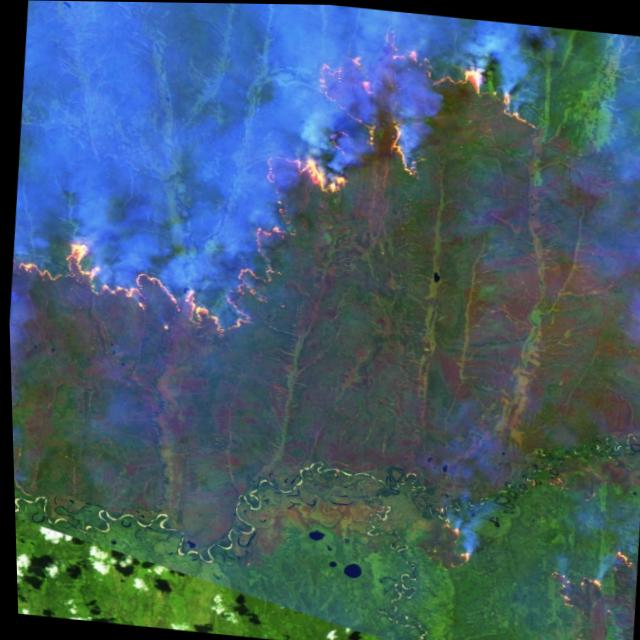fire: (0, 0, 562, 378)
